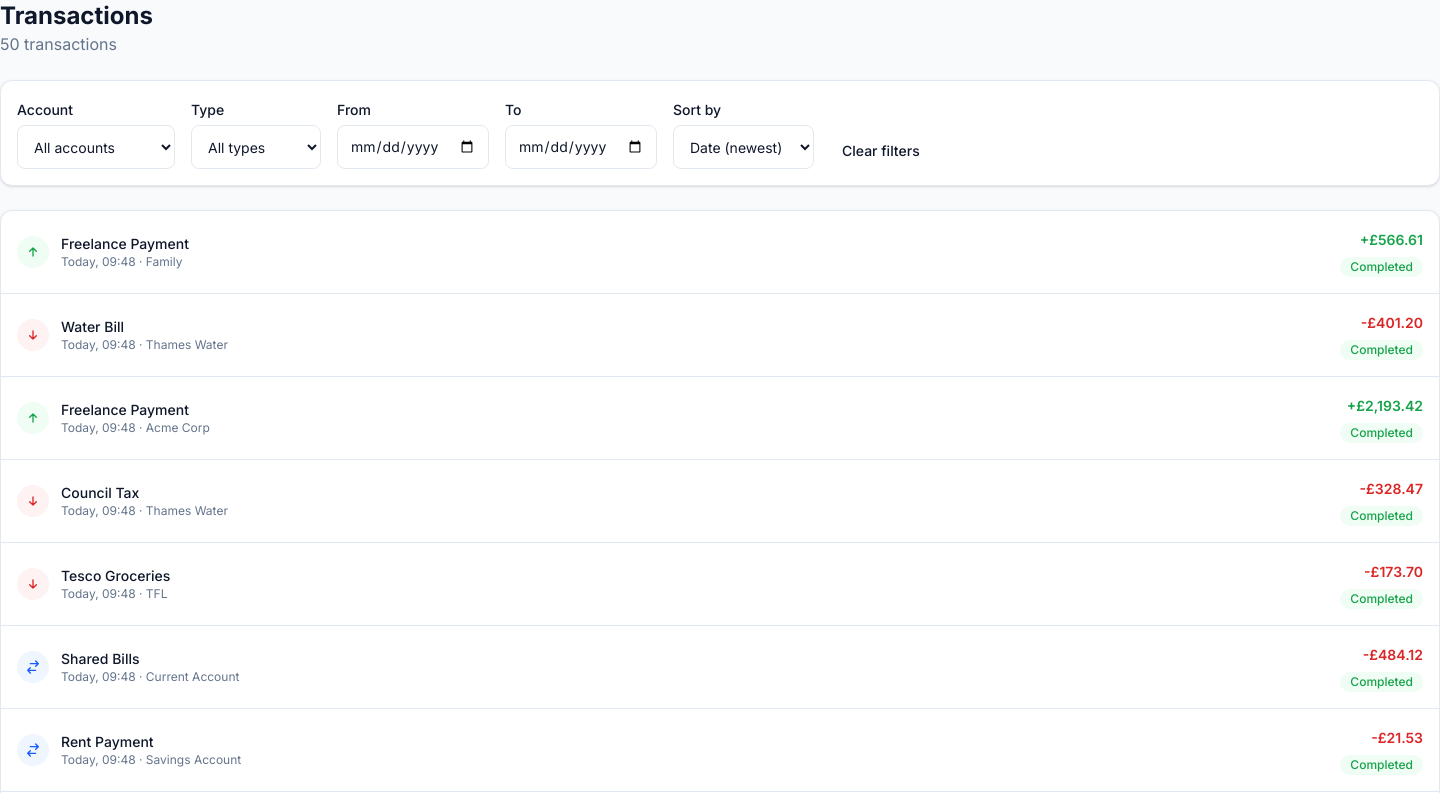
TransactionsPage › opens transaction detail dialog when a transaction is clicked
The width and height of the screenshot is (1440, 793).
Step 1. Click the button "Freelance Payment Today, 09:48 · Family +£566.61 completed" → (33, 252), box [1,211,1439,293]
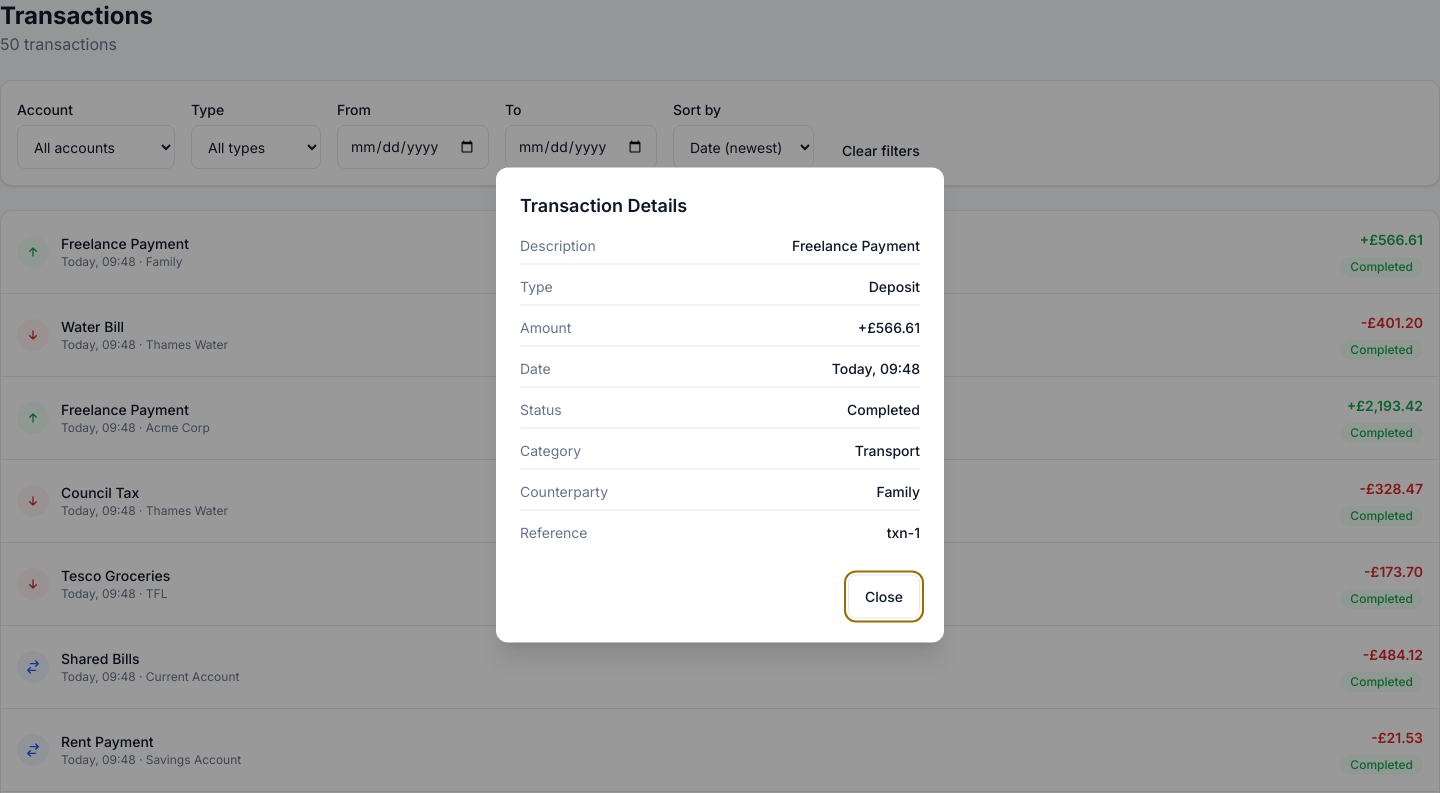
Result: the heading "Transaction Details" is shown at [520,194,687,216]
